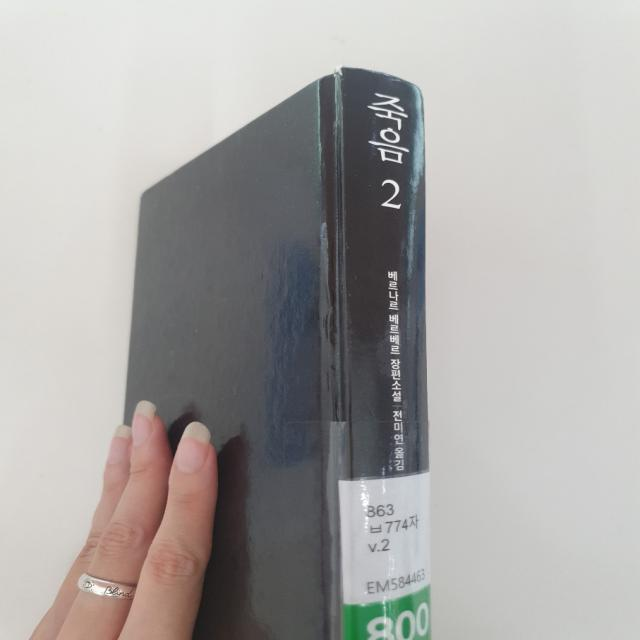Wornout: (326, 62, 366, 82)
